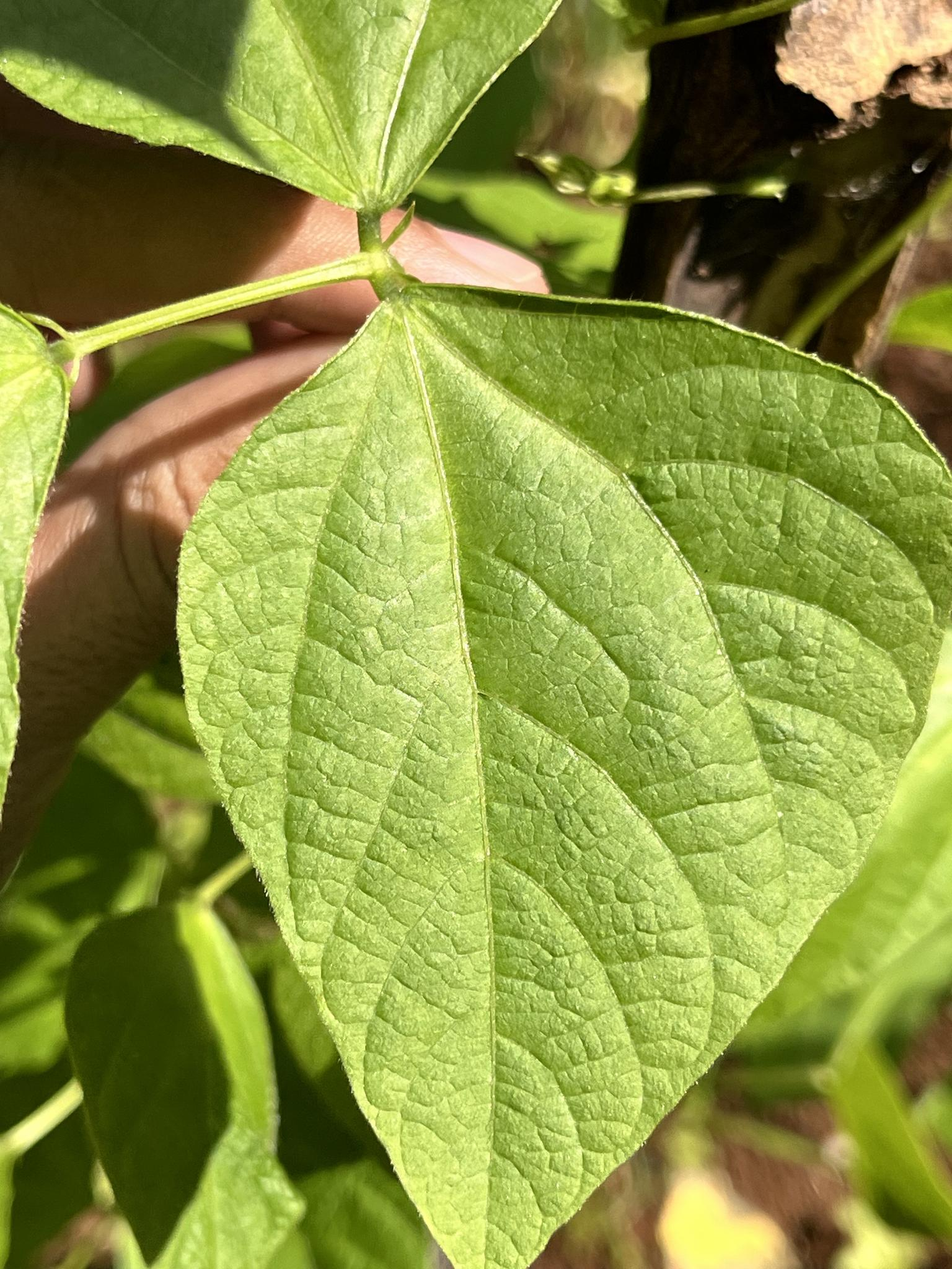sehat: (171, 280, 952, 1269)
